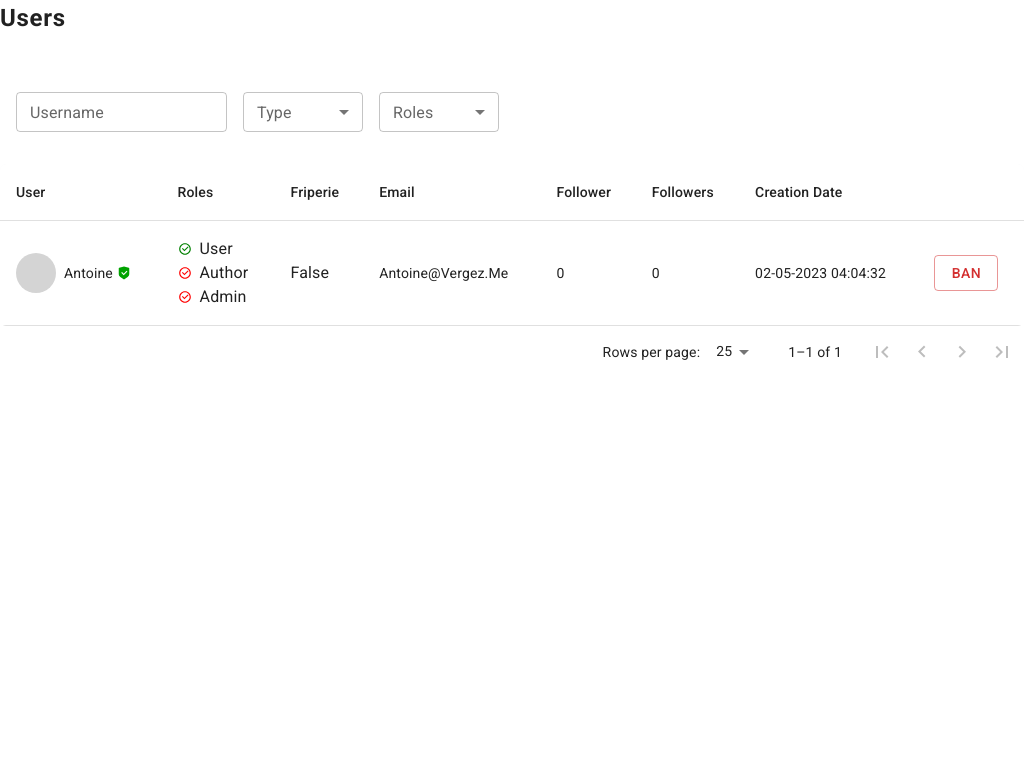
Users component › User button click › Prompt user ban
Click the button "Ban". click: click(966, 273)
box: [934,255,998,291]
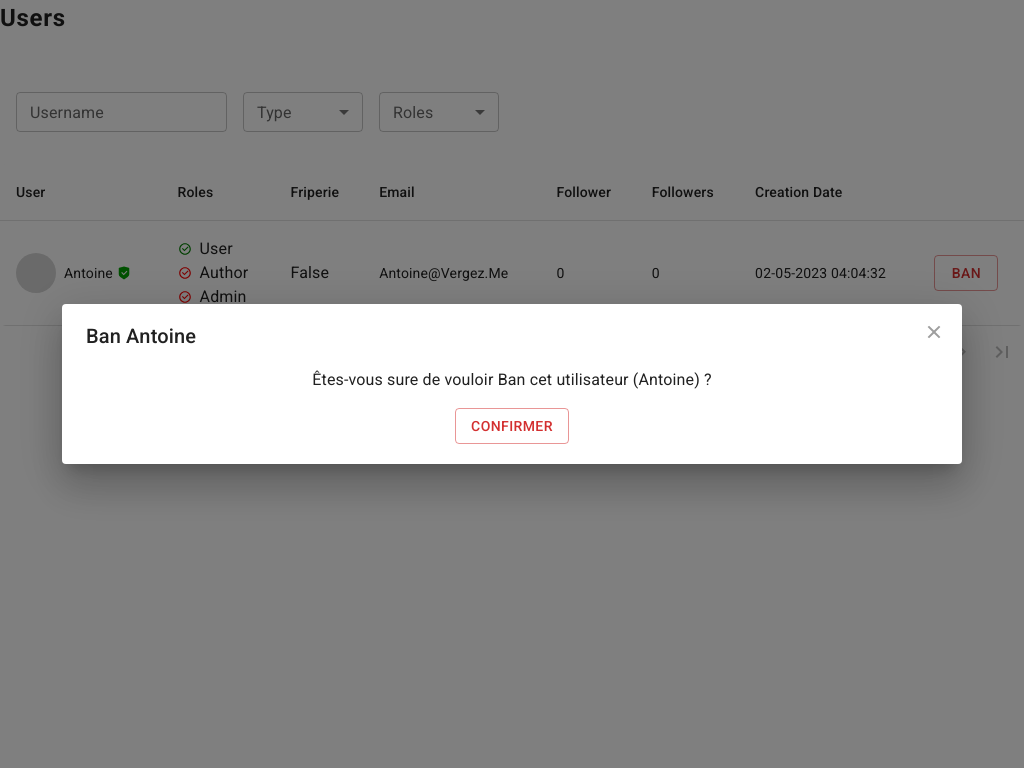
expect the text "Êtes-vous sure de vouloir Ban cet utilisateur (Antoine) ?" is shown: met, box [312,368,712,392]
expect the button "Confirmer" is shown: met, box [455,408,569,444]
